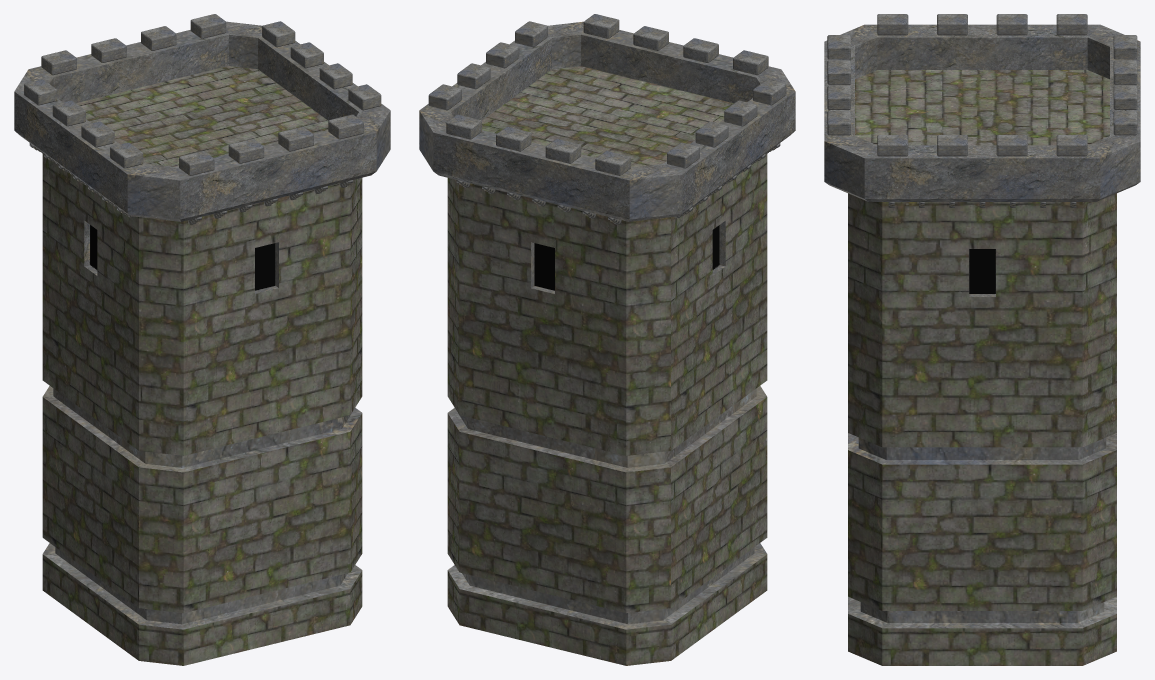
The model's file is tower_and_castle_walls_0_8F42F975.glb.
3 renders of one model, left to right at view 1: azimuth 30°, elevation 25°; view 2: azimuth 150°, elevation 25°; view 3: azimuth 270°, elevation 25°, orthographic. The views are drawn at different scales.
Parts seen in each view (by area): view 1: tower_and_castle_walls_0_8F42F975; view 2: tower_and_castle_walls_0_8F42F975; view 3: tower_and_castle_walls_0_8F42F975.
Boxes of the visible parts, x1,y1,x2,y2 form: tower_and_castle_walls_0_8F42F975: (14,14,390,665); tower_and_castle_walls_0_8F42F975: (419,14,795,665); tower_and_castle_walls_0_8F42F975: (824,14,1140,665).
Size of the model in its own units: 3.78 by 7 by 3.78.
Materials: 1 (1 with a texture image).
